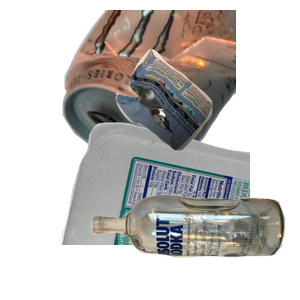glass: (88, 192, 300, 300)
metal: (60, 10, 300, 175)
plastic: (58, 120, 298, 300)
trash: (113, 46, 300, 189)
